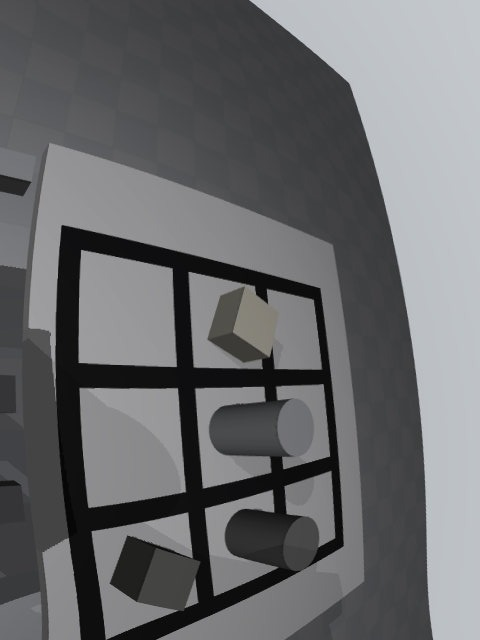can: (209, 398, 314, 457)
cube: (110, 535, 201, 611)
cylinder: (225, 509, 319, 571)
foam: (207, 287, 279, 362)
